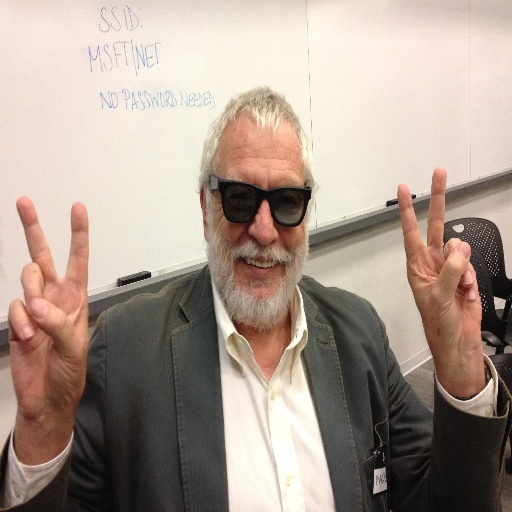hand: (2, 176, 101, 470), (396, 165, 483, 362)
